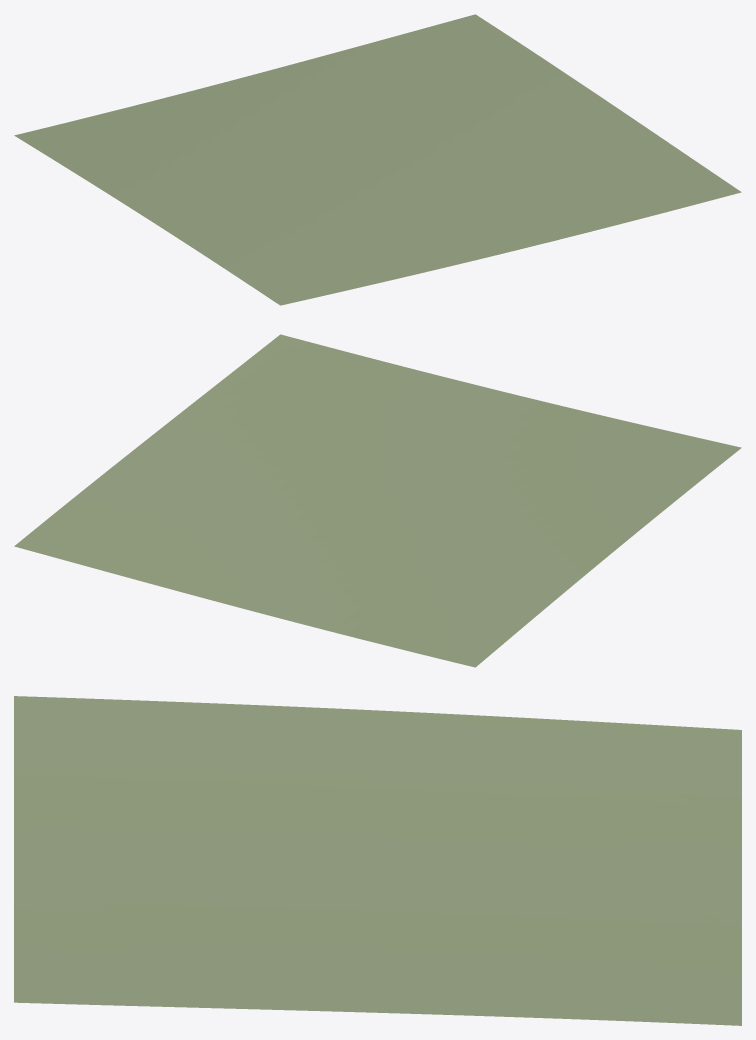
The model's file is expanse-5-9.glb.
3 views of the same model, one above another, from view 1: azimuth 30°, elevation 25°; view 2: azimuth 150°, elevation 25°; view 3: azimuth 270°, elevation 25° (orthographic). The views are drawn at different scales.
Visible parts, largest first — view 1: expanse-5-9; view 2: expanse-5-9; view 3: expanse-5-9.
Part boxes in pixels (x1,y1,x2,y2): expanse-5-9: (14, 14, 741, 305); expanse-5-9: (14, 334, 741, 667); expanse-5-9: (14, 696, 741, 1025).
Bounding box in the file's own units: 256 × 13.58 × 256.
